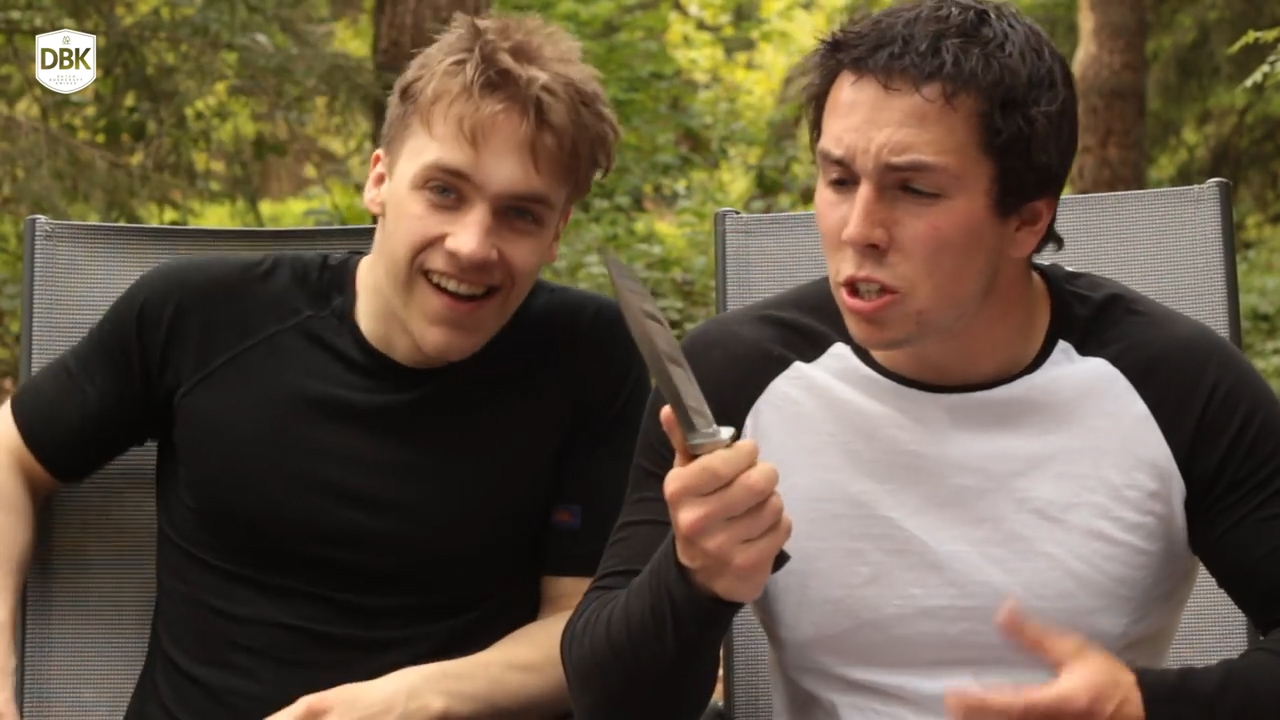knife: (592, 228, 795, 538)
